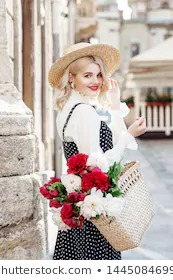S_blouse: (45, 91, 145, 169)
